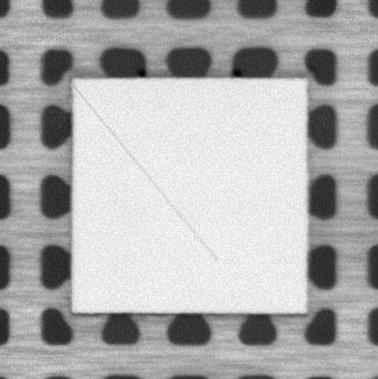DIE_CRACK: (77, 90, 218, 265)
